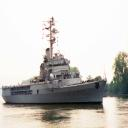Portanaves: (1, 17, 109, 107)
